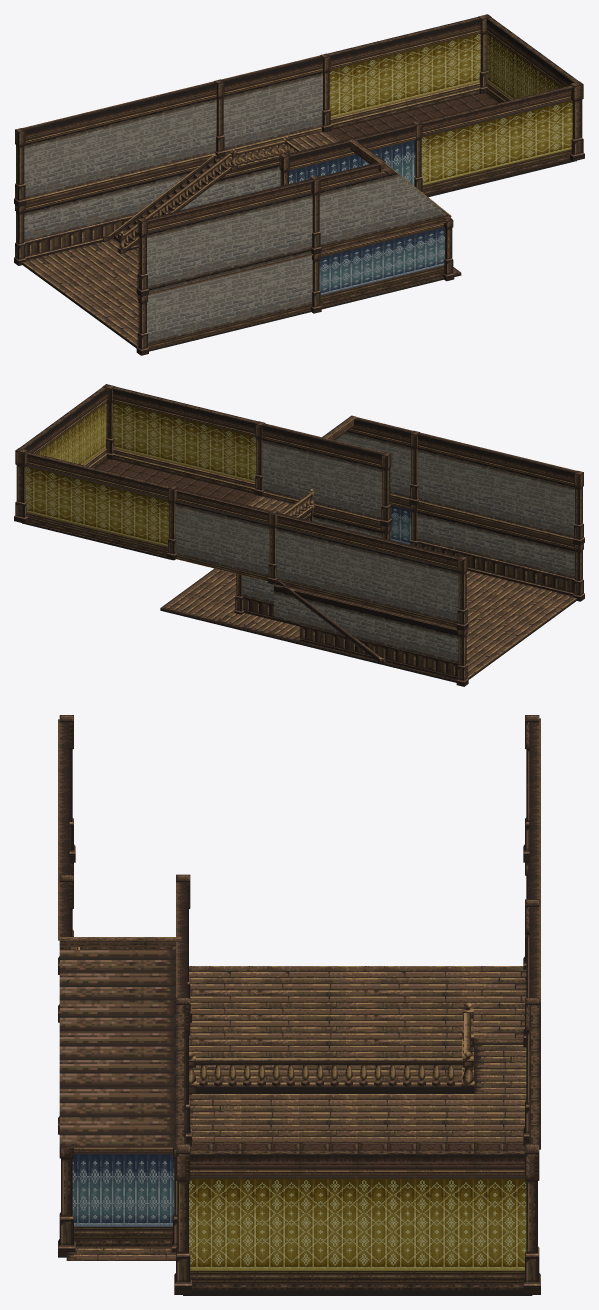
File: EnvBdgMD_Wilderness_A_Indoor_B.FBX
3 renders of one model, top to bottom at view 1: azimuth 30°, elevation 25°; view 2: azimuth 150°, elevation 25°; view 3: azimuth 270°, elevation 25°, orthographic. The views are drawn at different scales.
Visible parts, largest first — view 1: EnvBdgMD_Wilderness_A_Indoor_B; view 2: EnvBdgMD_Wilderness_A_Indoor_B; view 3: EnvBdgMD_Wilderness_A_Indoor_B.
Boxes of the visible parts, box(x1,y1,x2,y2) form: EnvBdgMD_Wilderness_A_Indoor_B: box(14, 14, 584, 355); EnvBdgMD_Wilderness_A_Indoor_B: box(14, 384, 584, 686); EnvBdgMD_Wilderness_A_Indoor_B: box(58, 715, 540, 1295).
Bounding box in the file's own units: 3575 × 964 × 1660.
1 material, 1 textured.
